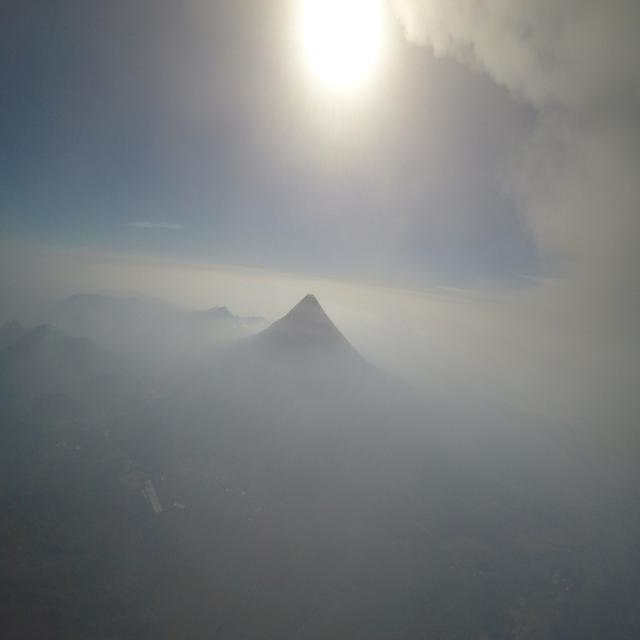Plume: (389, 0, 640, 281)
